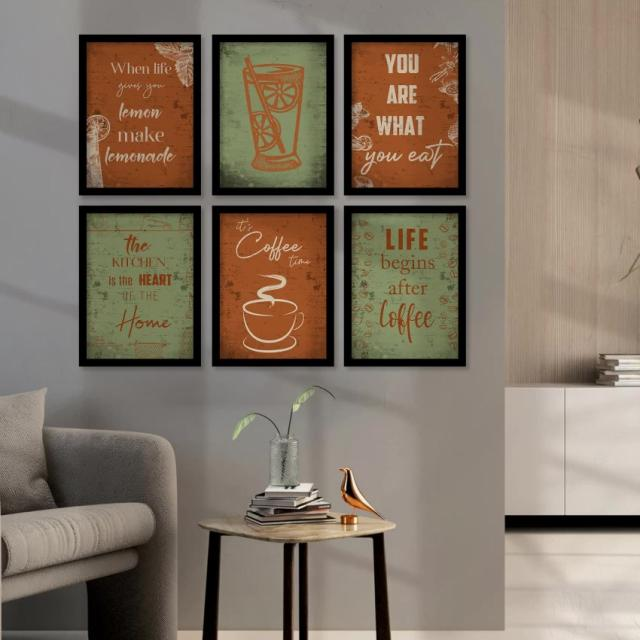painting: (212, 34, 334, 195), (343, 34, 465, 195), (344, 205, 466, 366), (79, 32, 200, 194), (79, 205, 200, 366), (211, 204, 332, 365)
